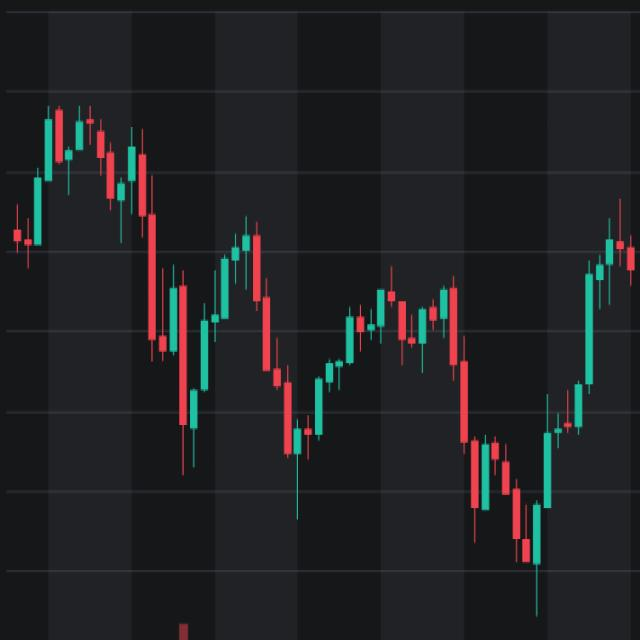Resistance-Emerging: (195, 226, 640, 570)
